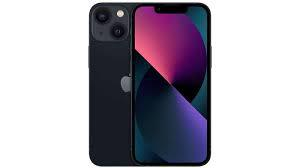Smartphone: (134, 1, 209, 162), (87, 2, 142, 162)
